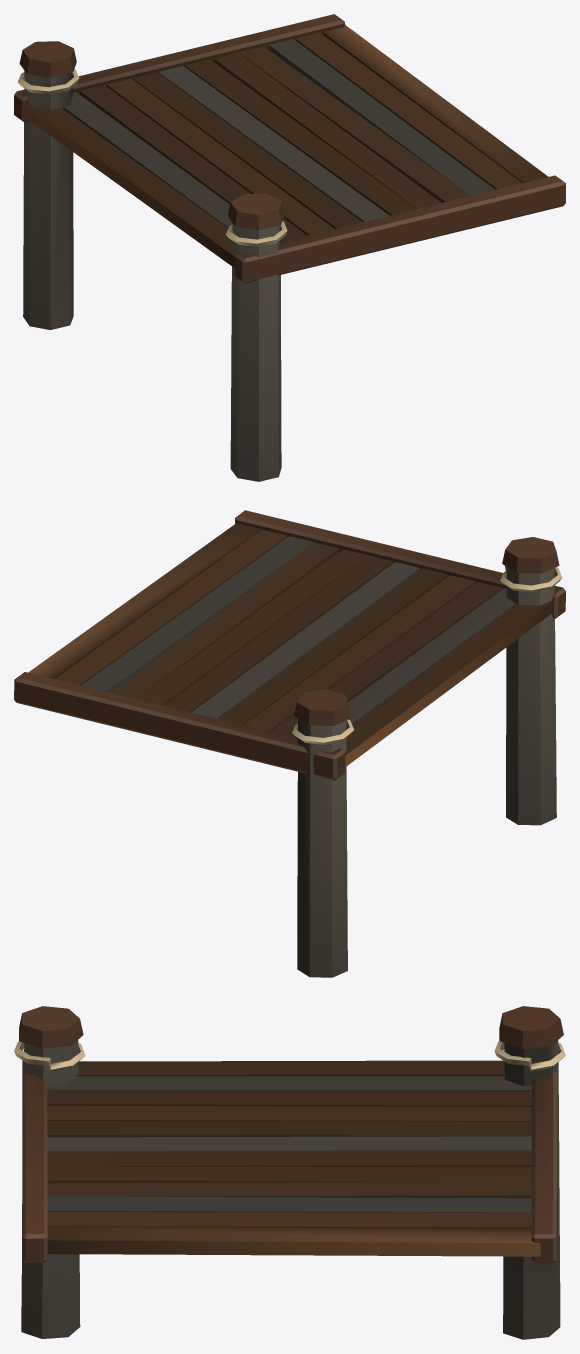
The model's file is HD_DockModule.glb.
The picture shows the model from 3 angles, top to bottom: view 1: azimuth 30°, elevation 25°; view 2: azimuth 150°, elevation 25°; view 3: azimuth 270°, elevation 25°; orthographic projection. The views are drawn at different scales.
Visible parts, largest first — view 1: HD_DockModule_1_Wood, HD_DockModule_2_SmoothPlastic; view 2: HD_DockModule_1_Wood, HD_DockModule_2_SmoothPlastic; view 3: HD_DockModule_1_Wood, HD_DockModule_2_SmoothPlastic.
Boxes of the visible parts, <box> form: HD_DockModule_1_Wood: <box>14,14,565,481</box>; HD_DockModule_2_SmoothPlastic: <box>18,69,287,246</box>; HD_DockModule_1_Wood: <box>14,510,565,977</box>; HD_DockModule_2_SmoothPlastic: <box>292,566,562,744</box>; HD_DockModule_1_Wood: <box>19,1006,563,1339</box>; HD_DockModule_2_SmoothPlastic: <box>14,1041,565,1071</box>.
Bounding box in the file's own units: 12.09 × 9.51 × 15.4.
